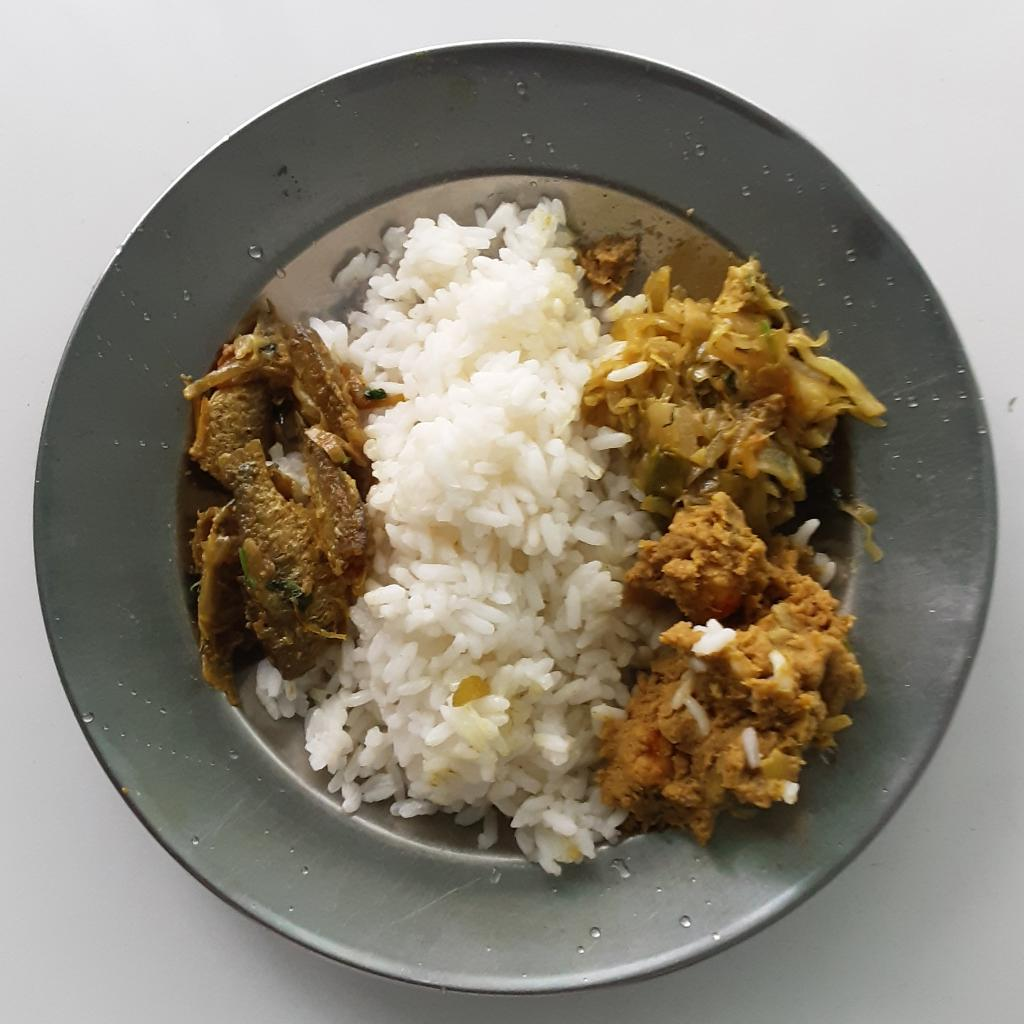cabbage: (585, 255, 893, 537)
daal: (605, 501, 869, 850)
fish: (177, 305, 401, 710)
rice: (253, 197, 670, 871)
